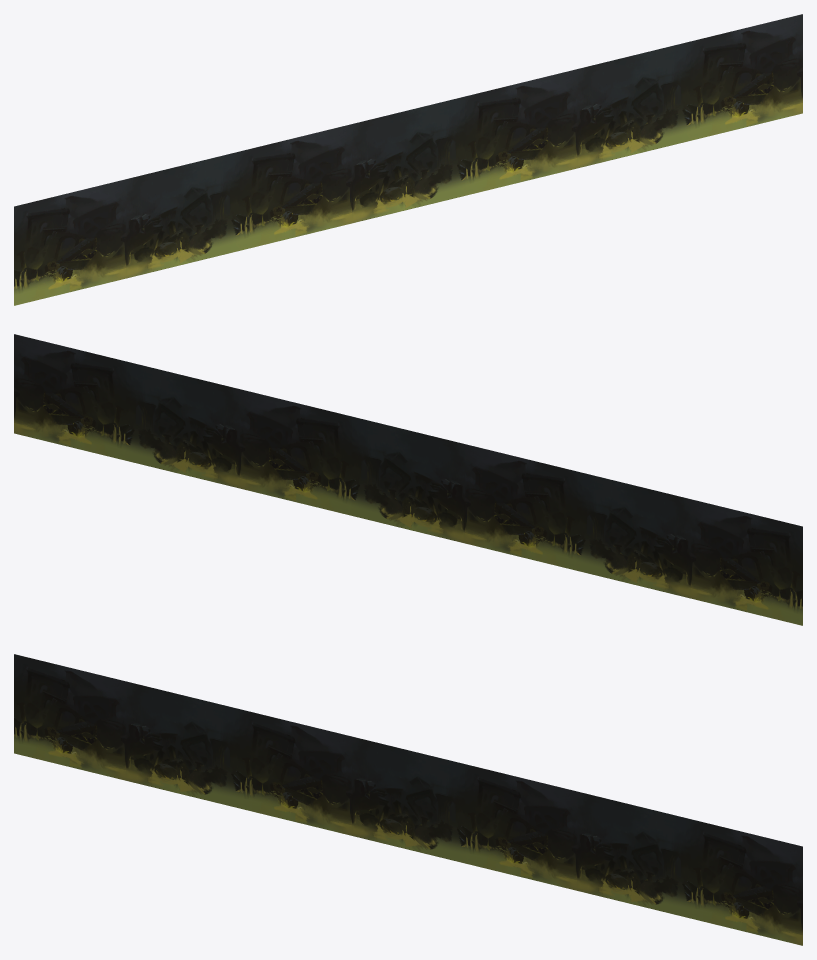
File: H_Dungeon_Wangzhiyiji_back.FBX
3 renders of one model, top to bottom at view 1: azimuth 30°, elevation 25°; view 2: azimuth 150°, elevation 25°; view 3: azimuth 330°, elevation 25°, orthographic.
Parts seen in each view (by area): view 1: H_Dungeon_Wangzhiyiji_back; view 2: H_Dungeon_Wangzhiyiji_back; view 3: H_Dungeon_Wangzhiyiji_back.
Part boxes in pixels (x1=…): H_Dungeon_Wangzhiyiji_back: x1=14, y1=14, x2=802, y2=305; H_Dungeon_Wangzhiyiji_back: x1=14, y1=334, x2=802, y2=625; H_Dungeon_Wangzhiyiji_back: x1=14, y1=654, x2=802, y2=945.
Bounding box in the file's own units: 48.98 × 5.9 × 9.54e-07.
